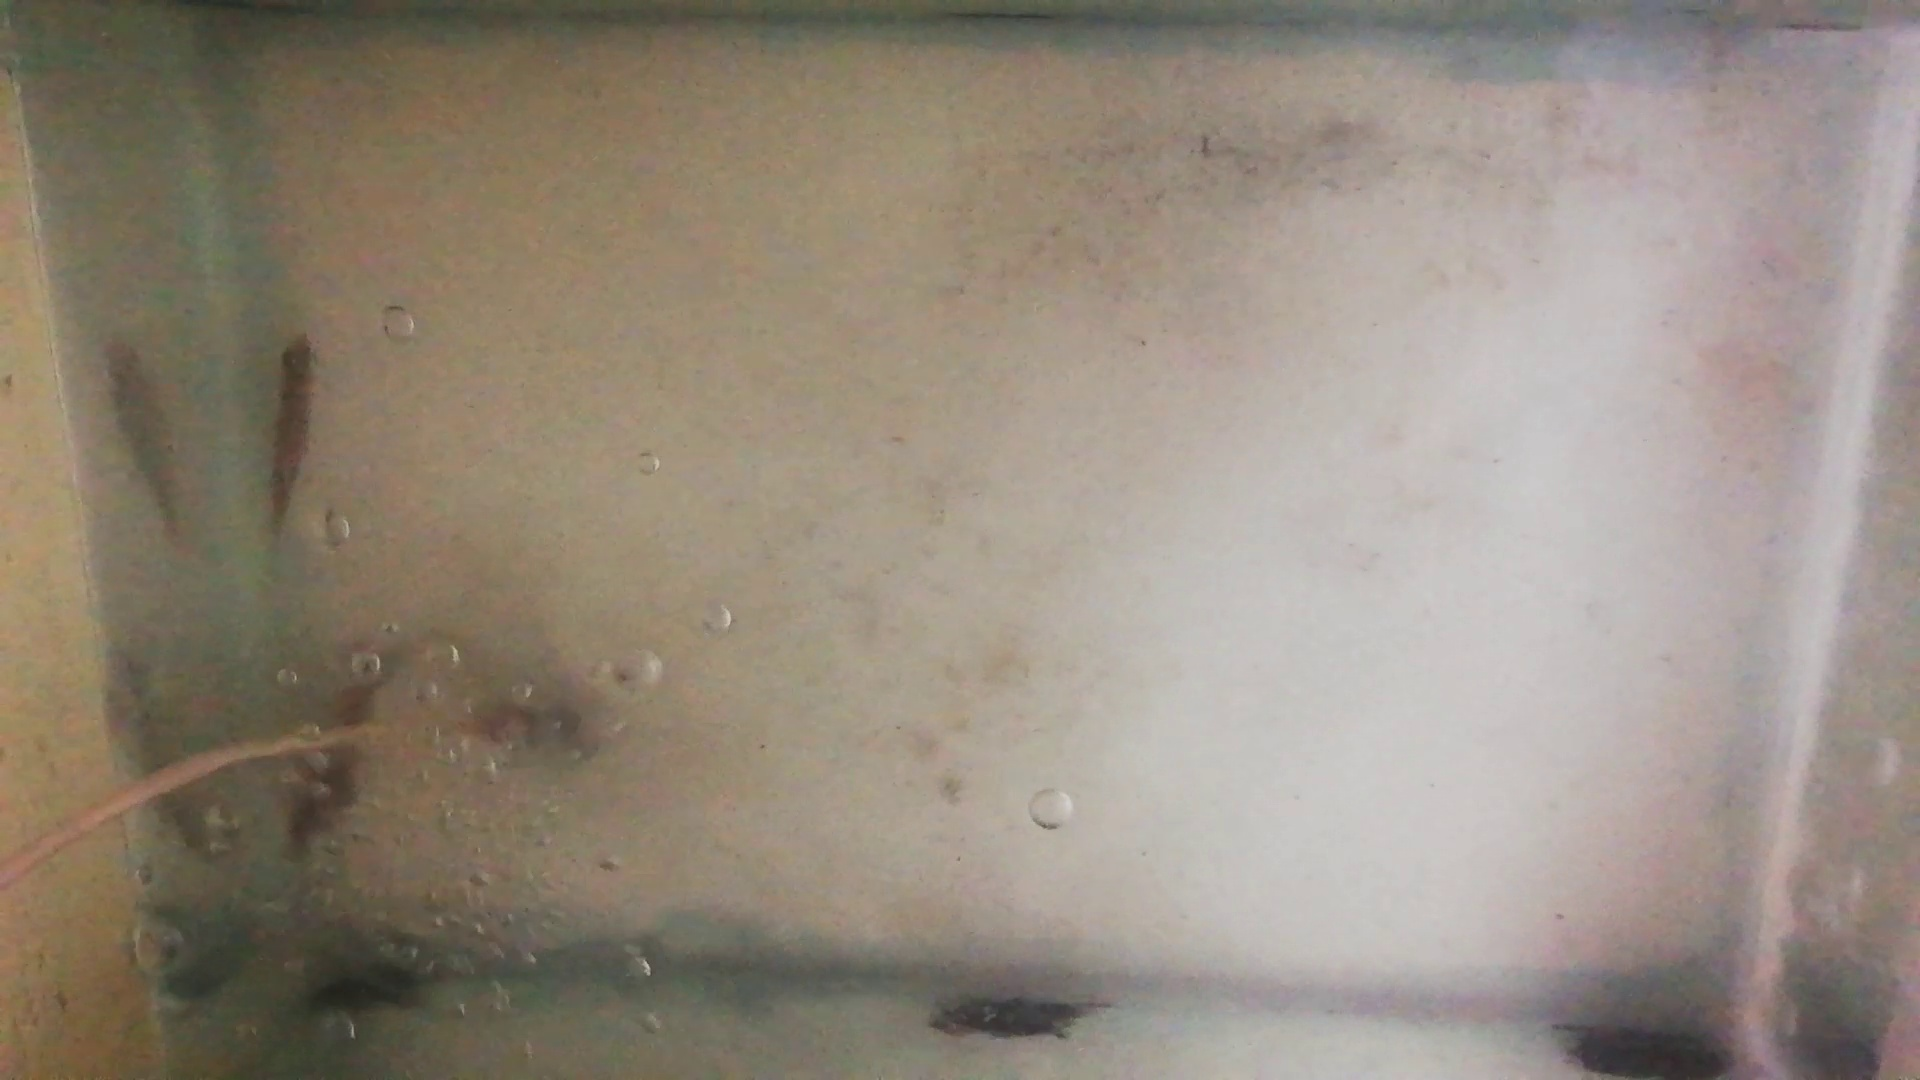fish: (289, 679, 375, 857), (269, 334, 319, 520)
